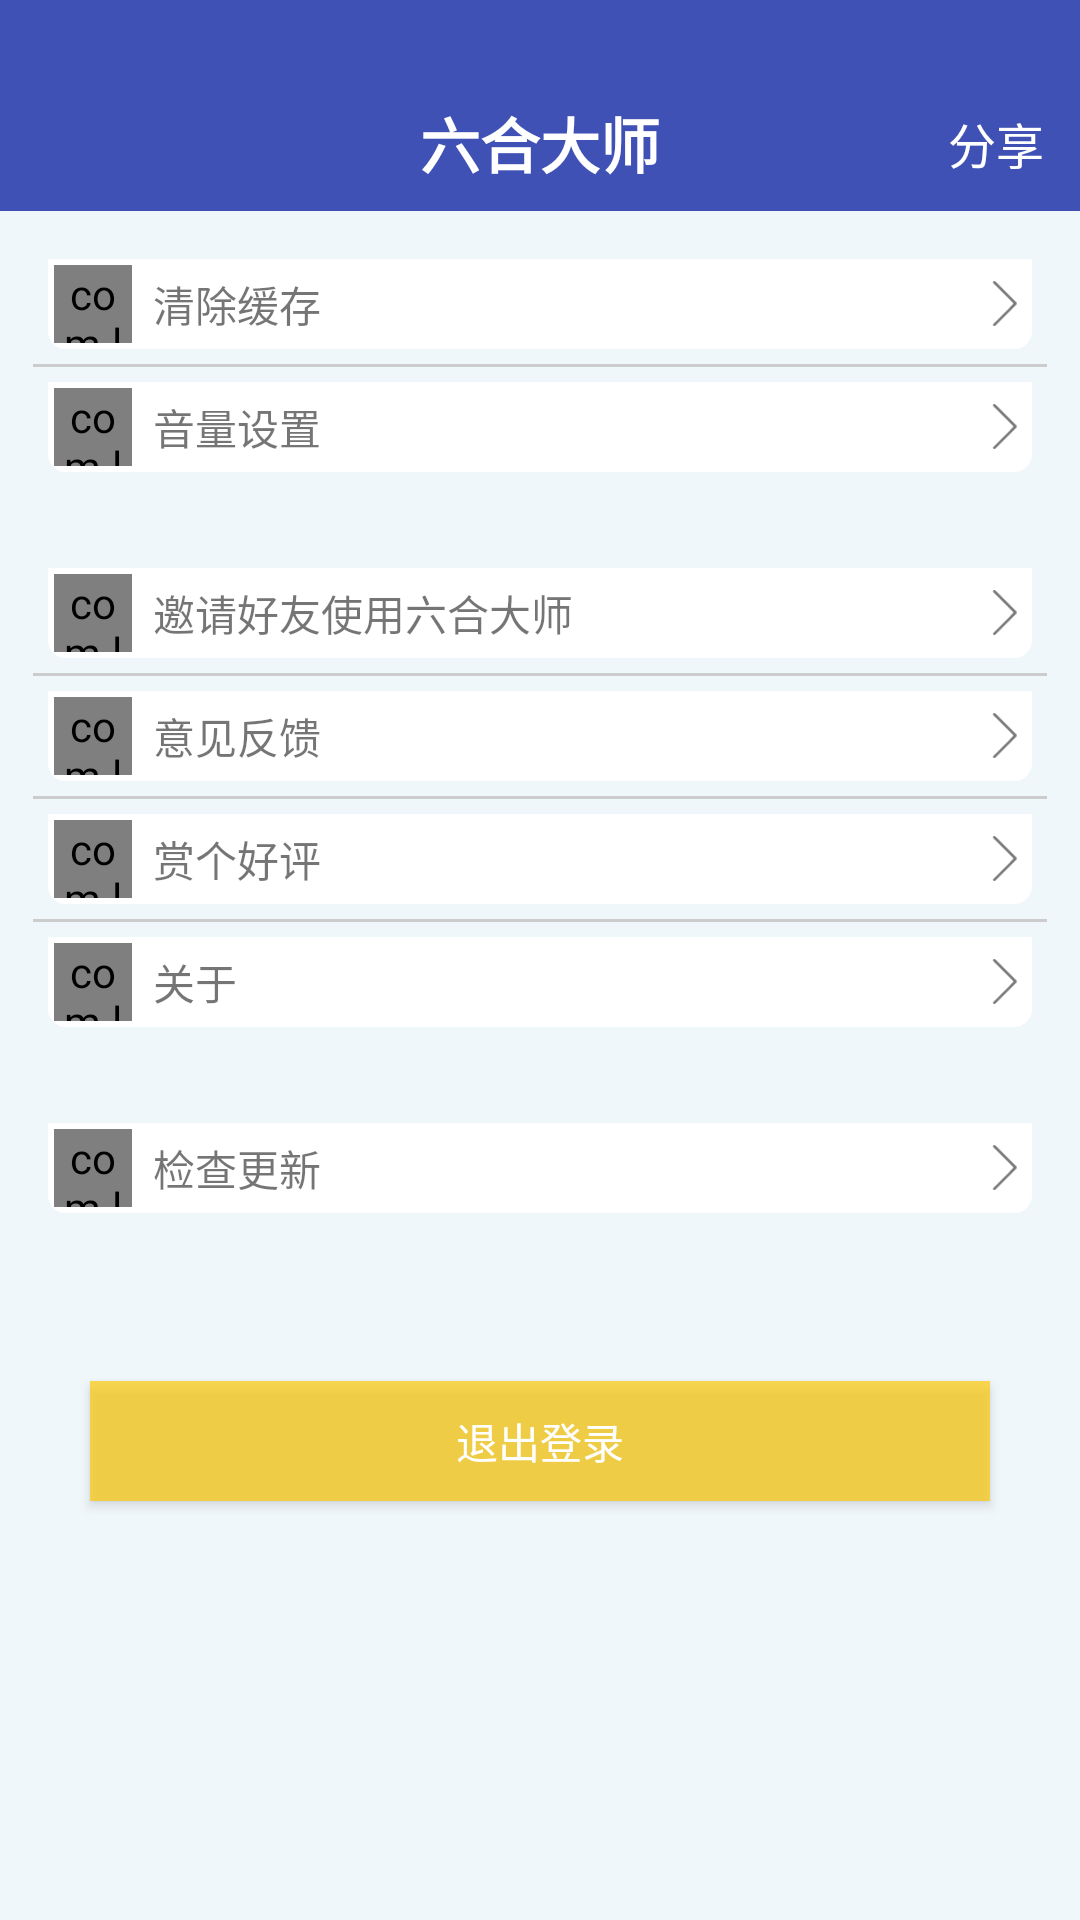

Icon click points for this 1080x1920 phone screenshot, format (x,y):
mine right: (1005,303), (1005,426), (1005,612), (1005,735), (1005,858), (1005,981), (1005,1167)
